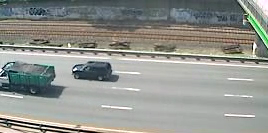car: (1, 60, 61, 97), (69, 60, 115, 83)
